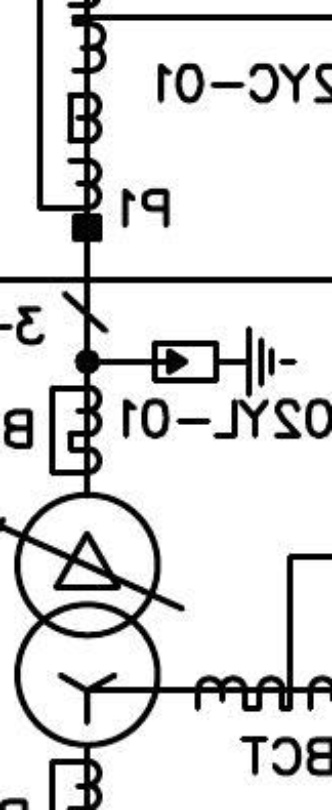11522_tx_dyn1: (12, 491, 162, 750)
115_la: (150, 324, 300, 400)
